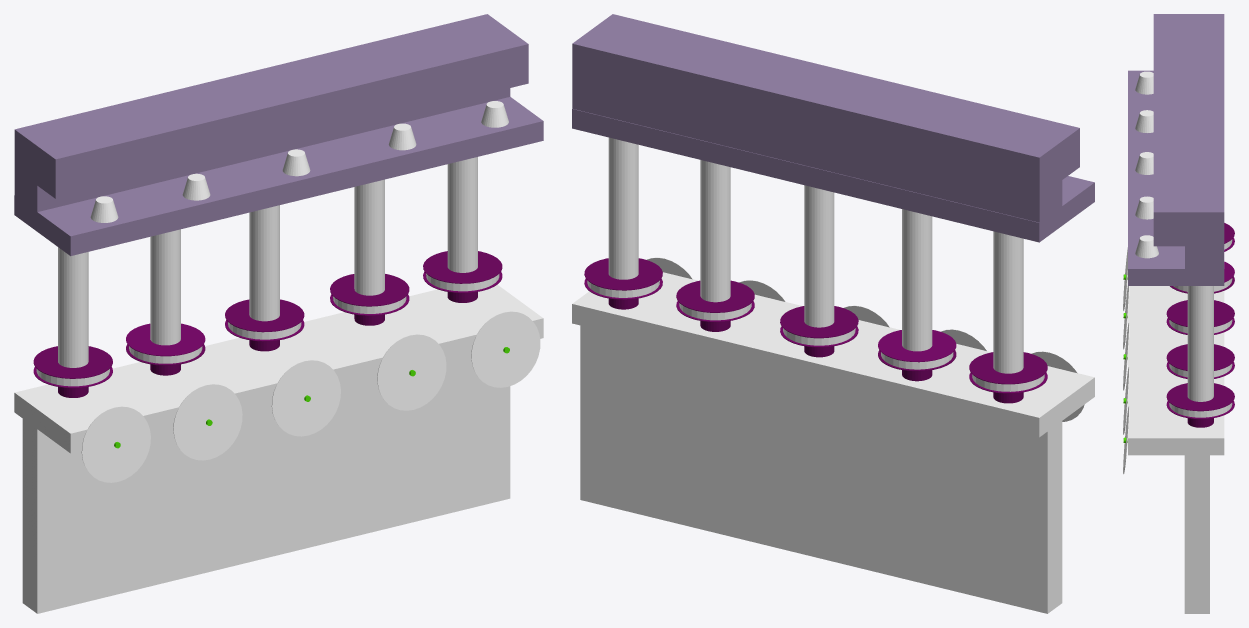
File: watergunstand.glb
3 views of the same model, side by side, from view 1: azimuth 30°, elevation 25°; view 2: azimuth 150°, elevation 25°; view 3: azimuth 270°, elevation 25° (orthographic). The views are drawn at different scales.
Parts seen in each view (by area): view 1: Cube, Cube.004, Cube.002, Cube.001, Cube.003, Cylinder.033, Cylinder.031, Cylinder.035, Cylinder.034, Cylinder.032, Cylinder.015, Cylinder.010 (+8 smaller); view 2: Cube, Cube.004, Cube.001, Cube.003, Cube.002, Cylinder.015, Cylinder.005, Cylinder.020, Cylinder.004, Cylinder.010, Cylinder.023, Cylinder.018 (+3 smaller); view 3: Cube.004, Cube.001, Cube.002, Cube, Cylinder.020, Cube.003, Cylinder.023, Cylinder.008, Cylinder.001, Cylinder.029, Cylinder.022, Cylinder.025 (+11 smaller).
Boxes of the visible parts, x1=… form: Cube: x1=22, y1=356, x2=510, y2=613; Cube.004: x1=14, y1=14, x2=528, y2=198; Cube.002: x1=14, y1=97, x2=543, y2=256; Cube.001: x1=14, y1=284, x2=543, y2=453; Cube.003: x1=14, y1=88, x2=510, y2=211; Cylinder.033: x1=377, y1=334, x2=446, y2=410; Cylinder.031: x1=173, y1=384, x2=242, y2=460; Cylinder.035: x1=81, y1=406, x2=150, y2=482; Cylinder.034: x1=471, y1=311, x2=540, y2=387; Cylinder.032: x1=271, y1=360, x2=340, y2=436; Cylinder.015: x1=58, y1=247, x2=88, y2=367; Cylinder.010: x1=150, y1=229, x2=180, y2=345; Cube: x1=580, y1=325, x2=1062, y2=613; Cube.004: x1=572, y1=14, x2=1079, y2=196; Cube.001: x1=572, y1=272, x2=1094, y2=437; Cube.003: x1=572, y1=83, x2=1062, y2=224; Cube.002: x1=572, y1=109, x2=1094, y2=242; Cylinder.015: x1=993, y1=231, x2=1023, y2=373; Cylinder.005: x1=700, y1=160, x2=730, y2=302; Cylinder.020: x1=608, y1=137, x2=638, y2=279; Cylinder.004: x1=804, y1=185, x2=834, y2=327; Cylinder.010: x1=902, y1=209, x2=932, y2=351; Cylinder.023: x1=584, y1=258, x2=662, y2=290; Cylinder.018: x1=969, y1=352, x2=1047, y2=384; Cube.004: x1=1153, y1=14, x2=1224, y2=246; Cube.001: x1=1128, y1=286, x2=1224, y2=455; Cube.002: x1=1128, y1=70, x2=1224, y2=285; Cube: x1=1184, y1=439, x2=1209, y2=613; Cylinder.020: x1=1187, y1=286, x2=1213, y2=401; Cube.003: x1=1185, y1=241, x2=1223, y2=270; Cylinder.023: x1=1166, y1=383, x2=1234, y2=411; Cylinder.008: x1=1166, y1=344, x2=1234, y2=370; Cylinder.001: x1=1166, y1=300, x2=1234, y2=326; Cylinder.029: x1=1135, y1=235, x2=1158, y2=258; Cylinder.022: x1=1169, y1=403, x2=1232, y2=417; Cylinder.025: x1=1135, y1=71, x2=1153, y2=94.
Size of the model in its own units: 17.85 by 16.87 by 4.25.
